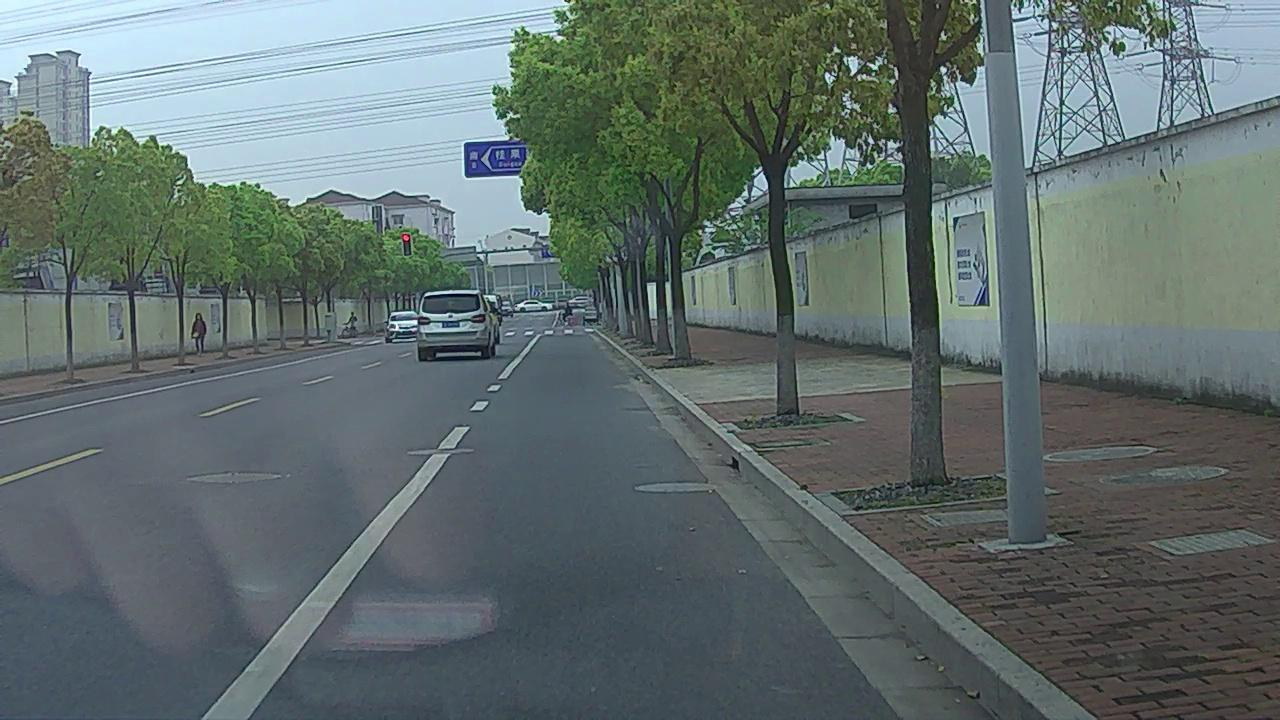traffic_light: (401, 233, 412, 256)
